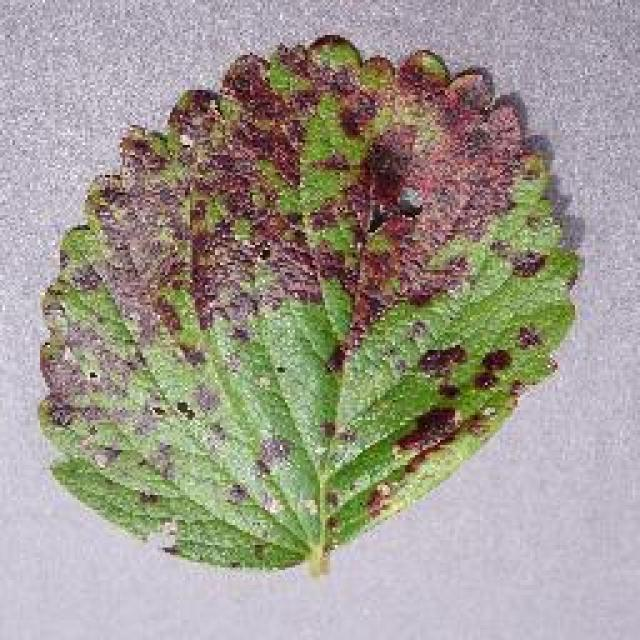Strawberry___Leaf_scorch: (22, 10, 598, 600)
